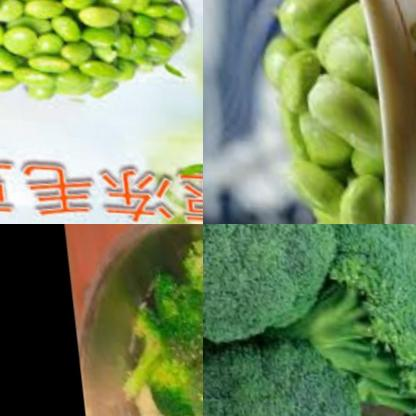beans: (221, 0, 416, 224), (0, 0, 192, 124)
broccoli: (285, 224, 416, 416), (203, 275, 377, 416), (203, 224, 338, 329), (100, 288, 203, 416), (174, 224, 203, 337)
cayliflower: (122, 384, 194, 416)
